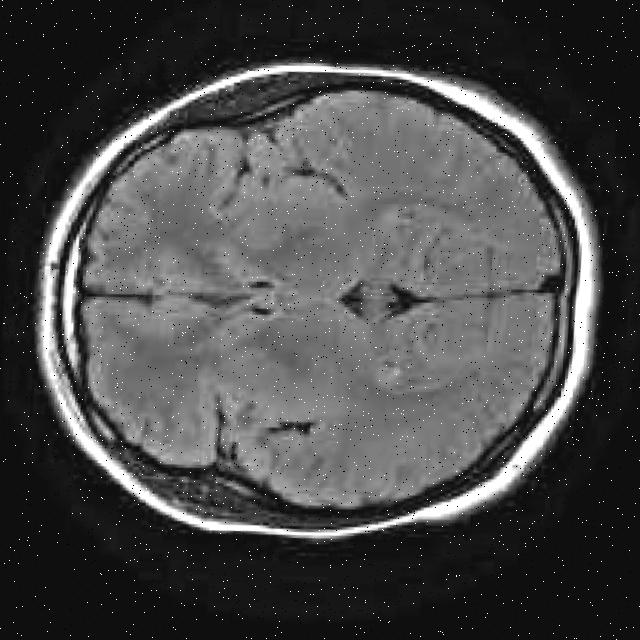NoTumor: (60, 55, 582, 546)
